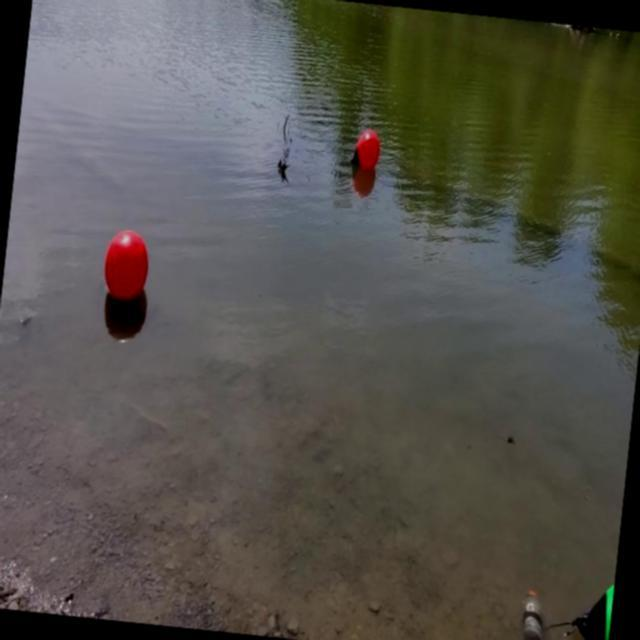buoy: (101, 228, 151, 302), (569, 580, 614, 640), (350, 126, 382, 170)
